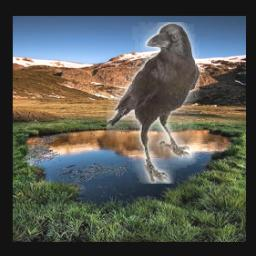Crow: (107, 23, 200, 184)
